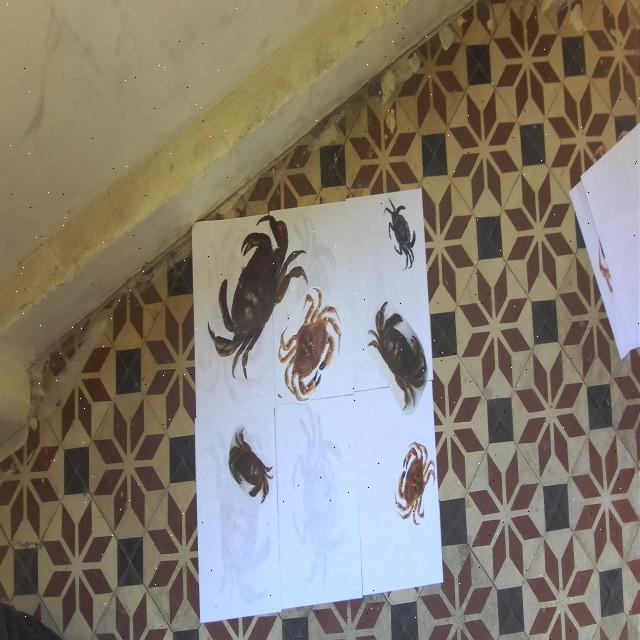European_Green_Crab: (379, 186, 423, 276)
